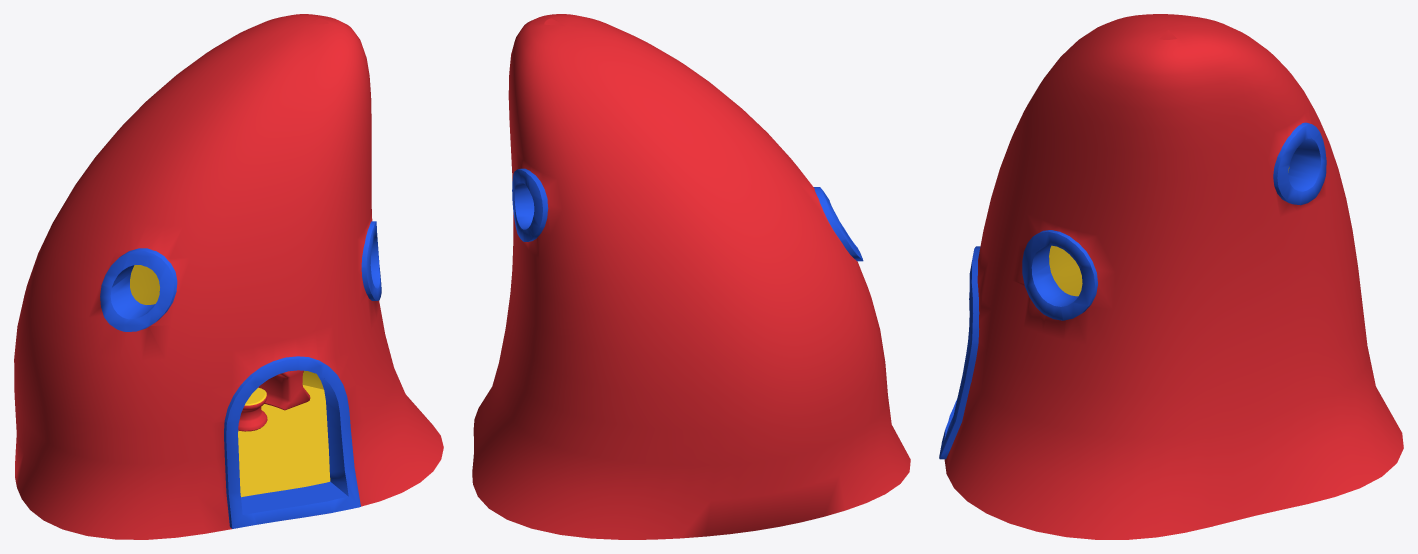
Rendered from adobe_05_leaning_tower.glb.
The picture shows the model from 3 angles, left to right: view 1: azimuth 30°, elevation 25°; view 2: azimuth 150°, elevation 25°; view 3: azimuth 270°, elevation 25°; orthographic projection. The views are drawn at different scales.
Parts seen in each view (by area): view 1: 05 • Leaning Tower, 05 • Crescent alcove counter, 05 • Plateau seat right; view 2: 05 • Leaning Tower; view 3: 05 • Leaning Tower.
Part boxes in pixels (box(x1,y1,x2,y2)): 05 • Leaning Tower: box(14, 14, 443, 539); 05 • Crescent alcove counter: box(258, 370, 310, 410); 05 • Plateau seat right: box(238, 387, 267, 431); 05 • Leaning Tower: box(472, 14, 910, 539); 05 • Leaning Tower: box(939, 14, 1403, 539).
Bounding box in the file's own units: 5.52 × 5.41 × 4.97.
